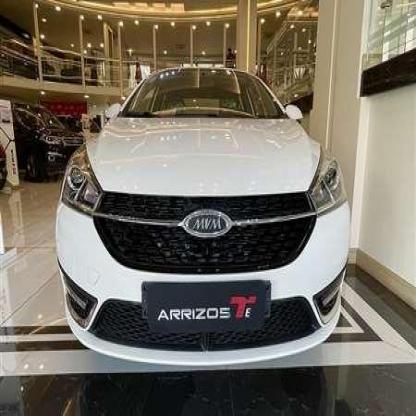Car: (64, 78, 348, 372), (0, 83, 86, 183)
